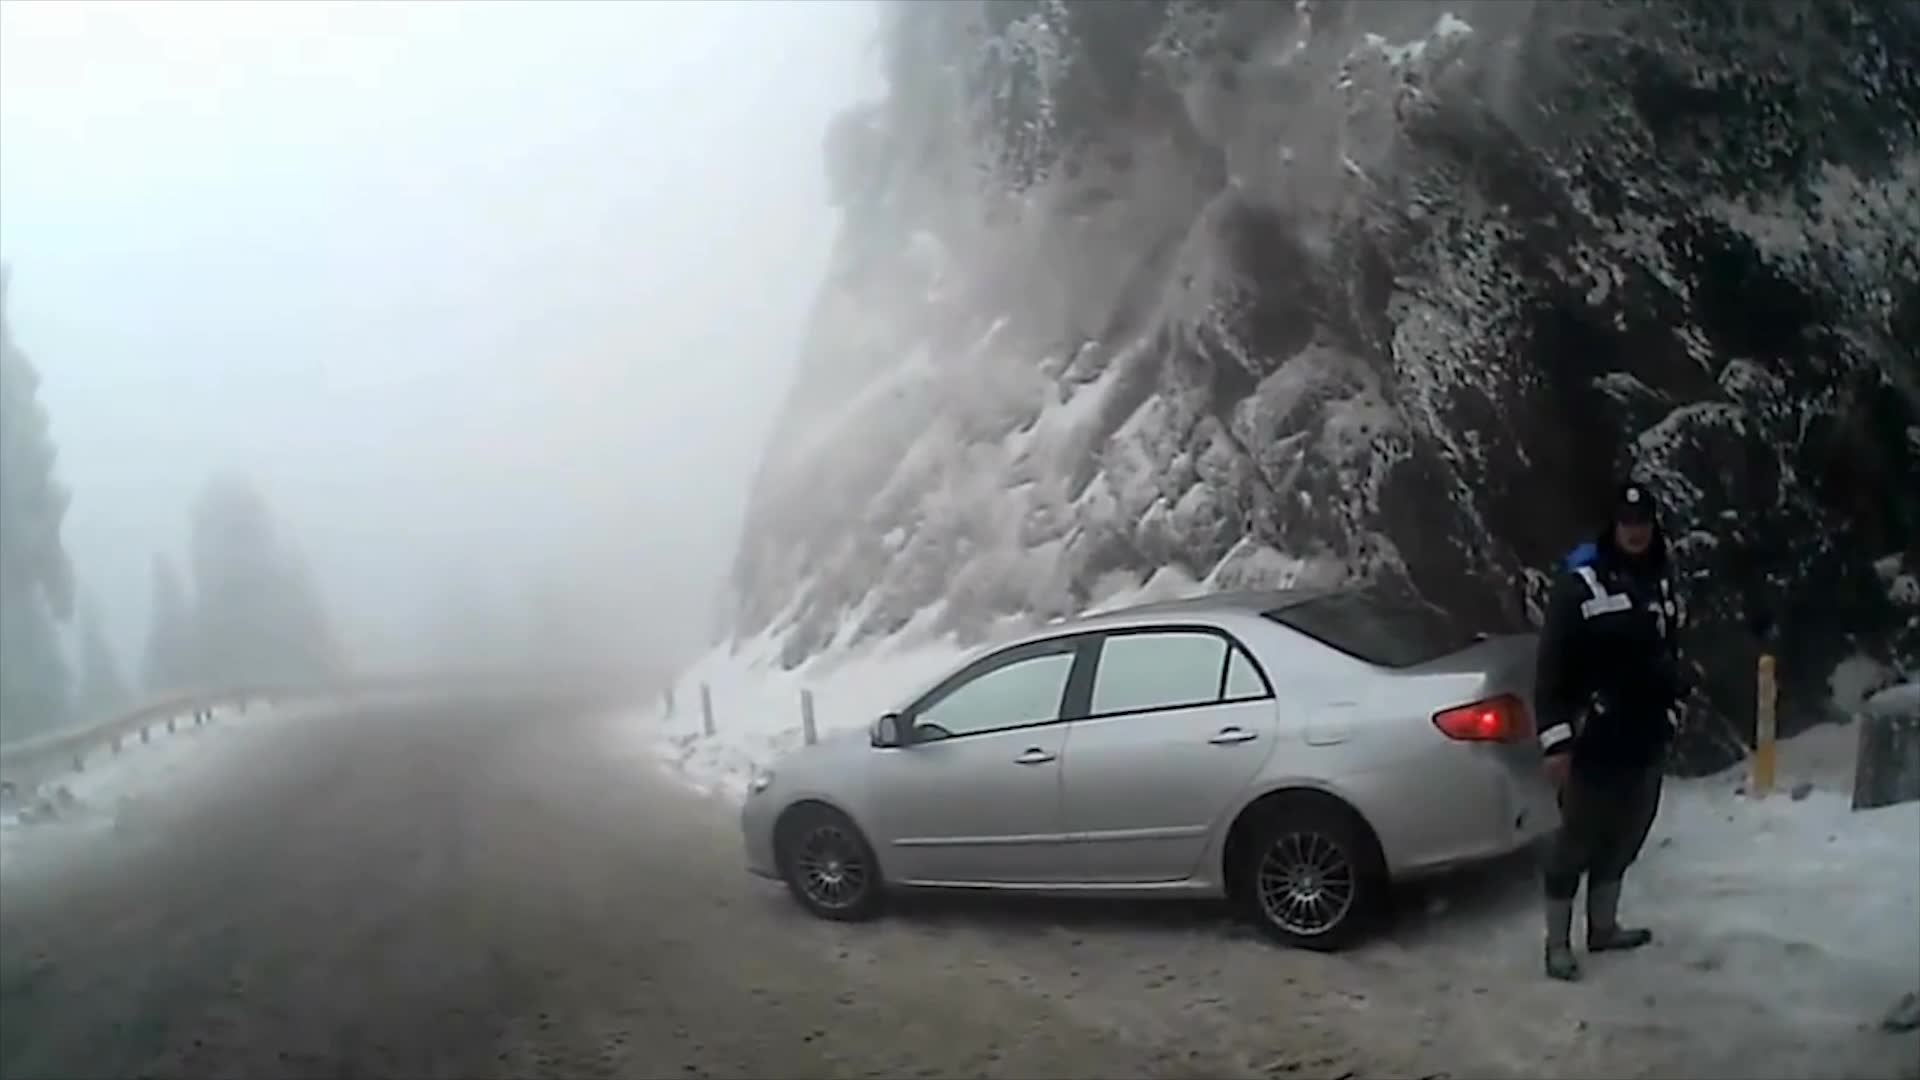pedestrian: (1541, 482, 1699, 979)
vehicle: (743, 581, 1634, 946)
